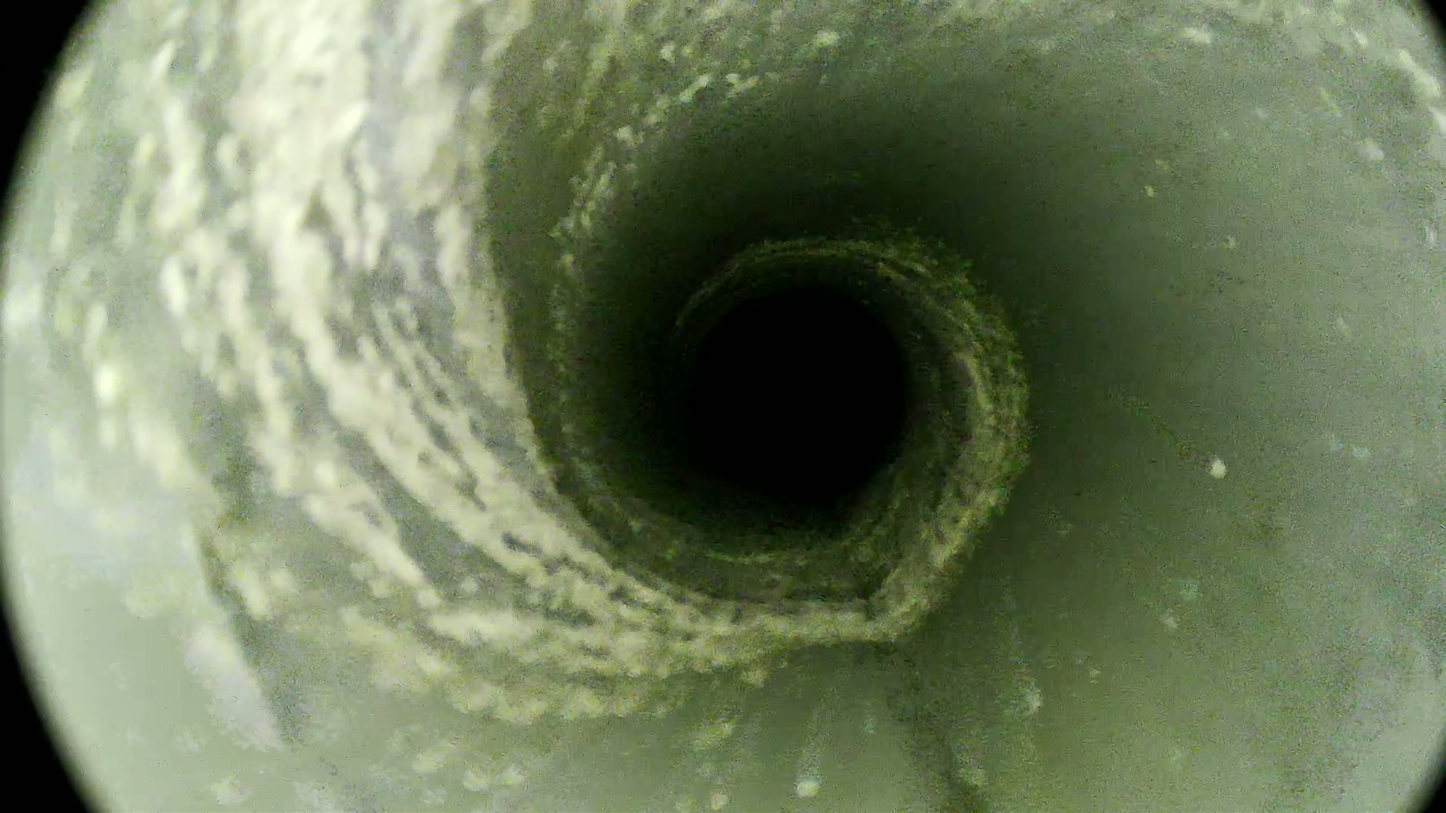hole: (693, 291, 903, 498)
